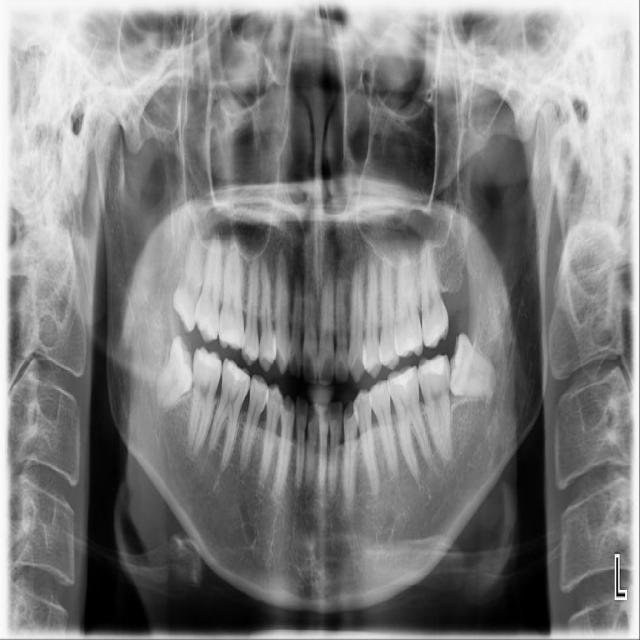Filling: (421, 355, 446, 381), (226, 357, 248, 386), (390, 366, 417, 387)
impacted tooth: (447, 333, 501, 400), (157, 334, 191, 408)
